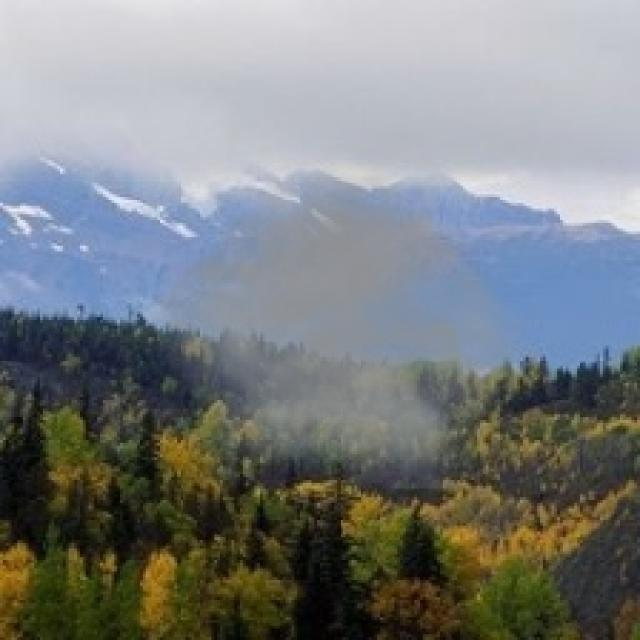Smoke: (134, 128, 546, 488)
